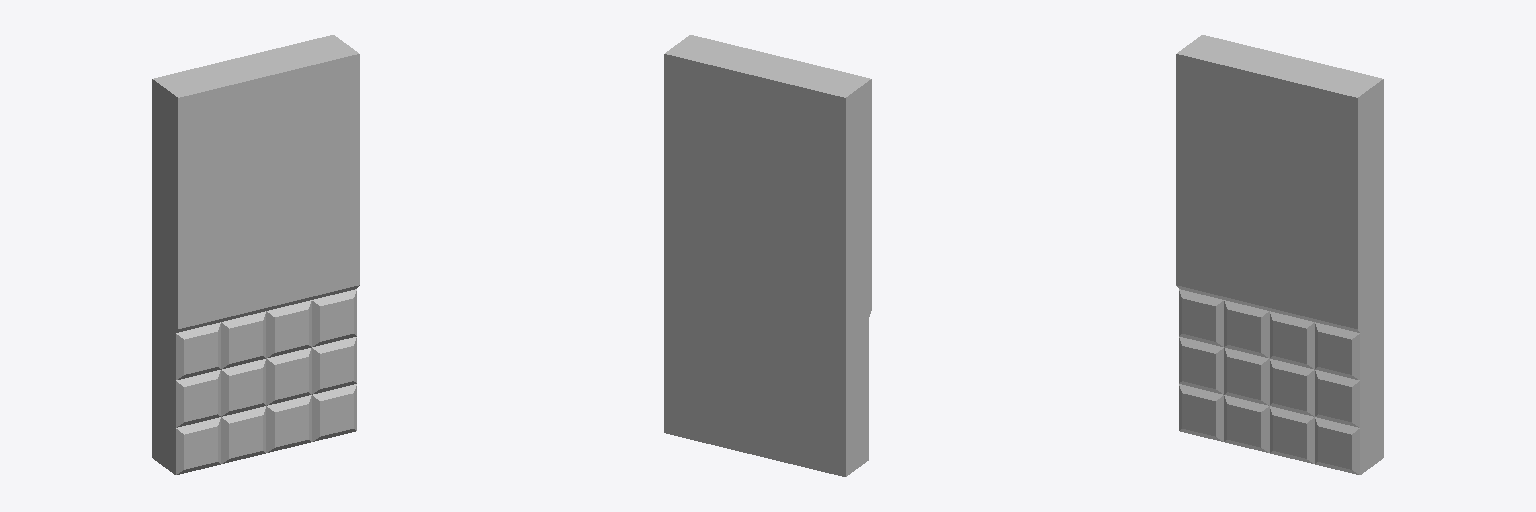
File: wall_tiled_straight.obj
3 views of the same model, side by side, from view 1: azimuth 30°, elevation 25°; view 2: azimuth 150°, elevation 25°; view 3: azimuth 330°, elevation 25° (orthographic).
Visible parts, largest first — view 1: wall_tiled_straight; view 2: wall_tiled_straight; view 3: wall_tiled_straight.
Part boxes in pixels (x1,y1,x2,y2): wall_tiled_straight: (152,35,359,474); wall_tiled_straight: (664,35,871,476); wall_tiled_straight: (1176,35,1383,474).
Size of the model in its own units: 2 by 4 by 0.5.